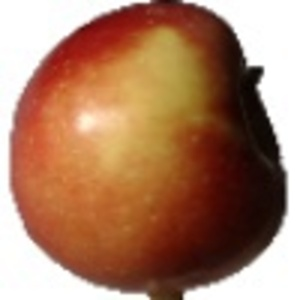maçã braeburn: (8, 4, 291, 296)
